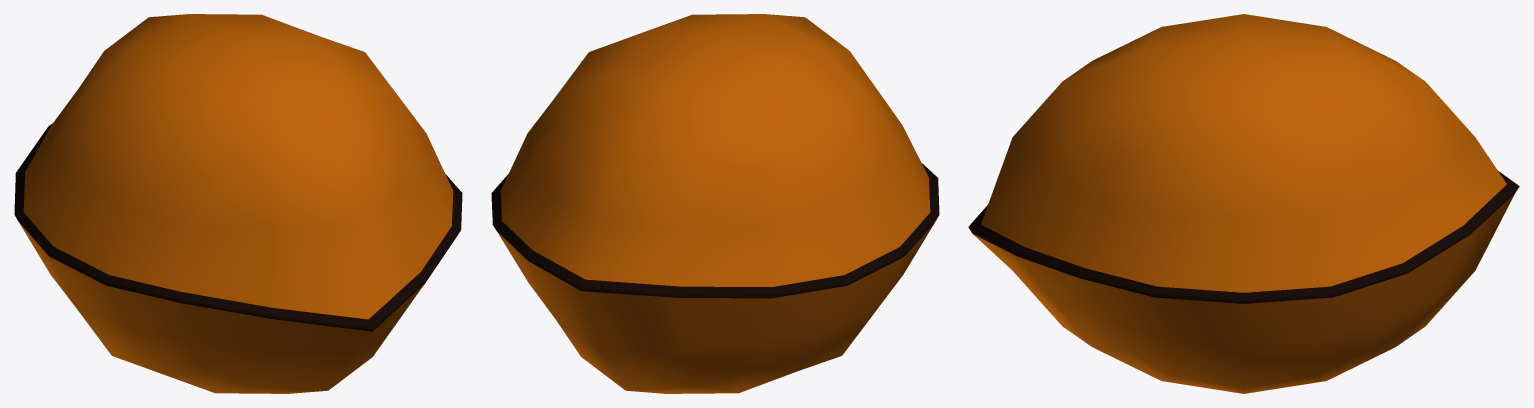
The model's file is Ginkgo Nut.fbx.
3 renders of one model, left to right at view 1: azimuth 30°, elevation 25°; view 2: azimuth 150°, elevation 25°; view 3: azimuth 270°, elevation 25°, orthographic.
Visible parts, largest first — view 1: Ginkgo_nut; view 2: Ginkgo_nut; view 3: Ginkgo_nut.
Part boxes in pixels (x1=…): Ginkgo_nut: x1=14, y1=14, x2=462, y2=393; Ginkgo_nut: x1=491, y1=14, x2=939, y2=393; Ginkgo_nut: x1=968, y1=14, x2=1519, y2=393.
Size of the model in its own units: 34.91 by 42.89 by 28.68.
